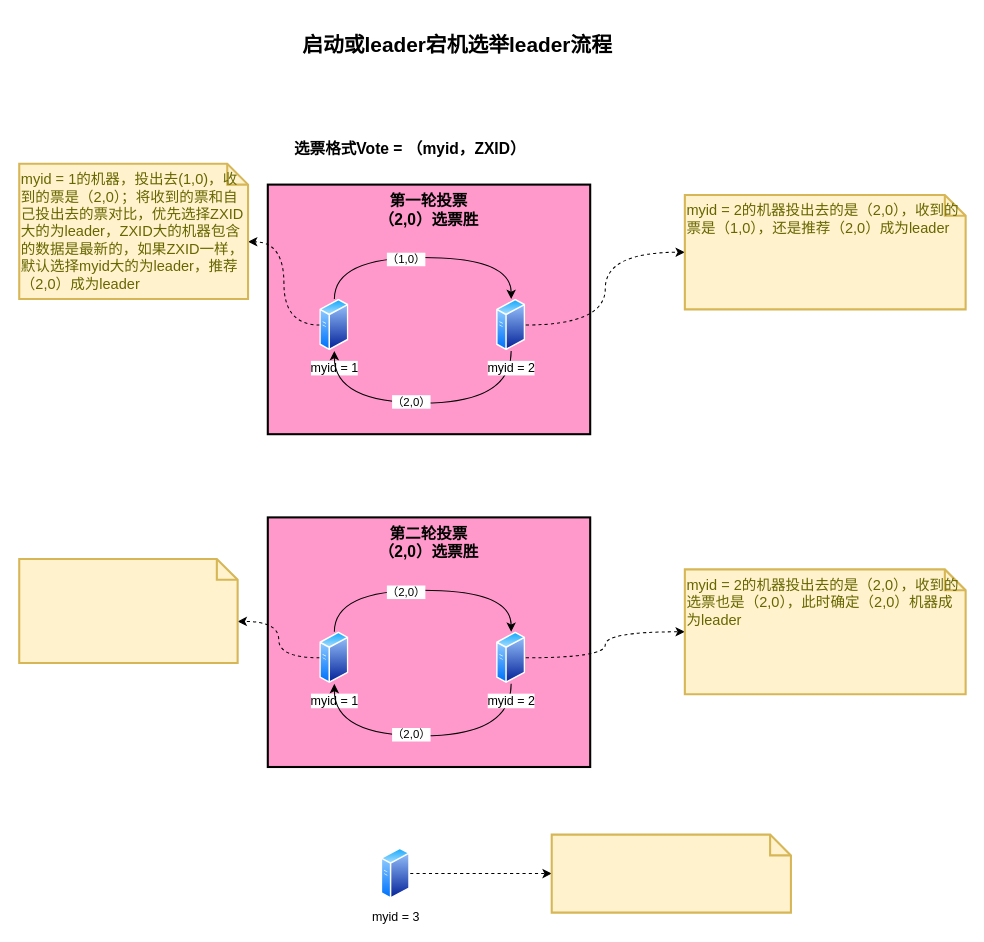
This 984x942 diagram has some shape labels left out. Here are the shapes that lost their labels. From the top down, the box of each, then its label:
(18, 557, 238, 664): myid = 1的机器投出去的是（2,0），收到的票是（2,0），投一台机器的票数已经超过集群的半数，此时选举就结束了，确定（2,0）的机器是leader
(550, 833, 791, 913): 当myid = 3的机器加入到集群中时，发现集群中已经有leader了，就让自己变为了follower
